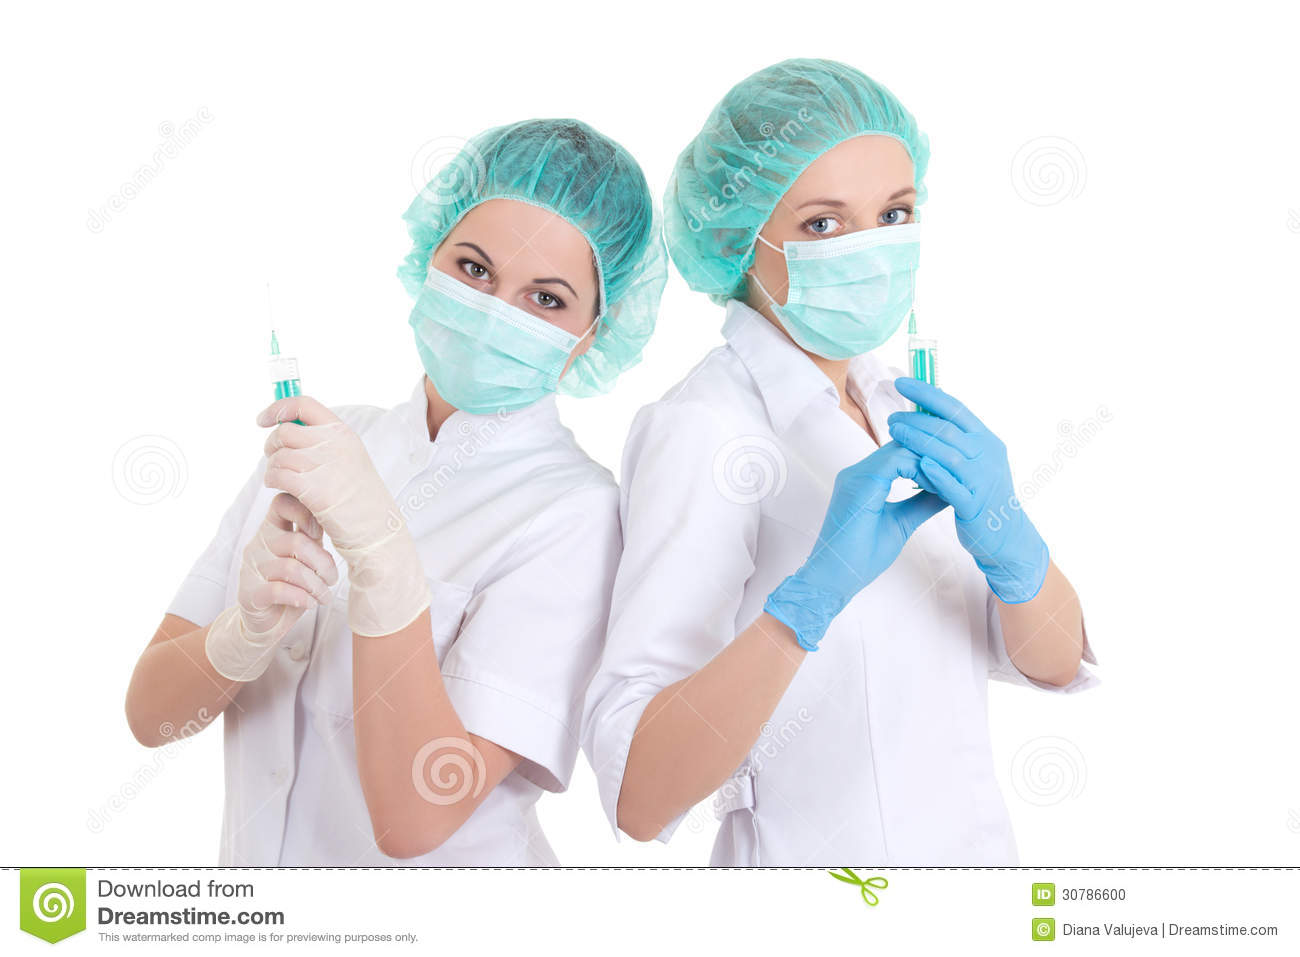mask: (411, 269, 576, 427), (766, 232, 935, 342)
